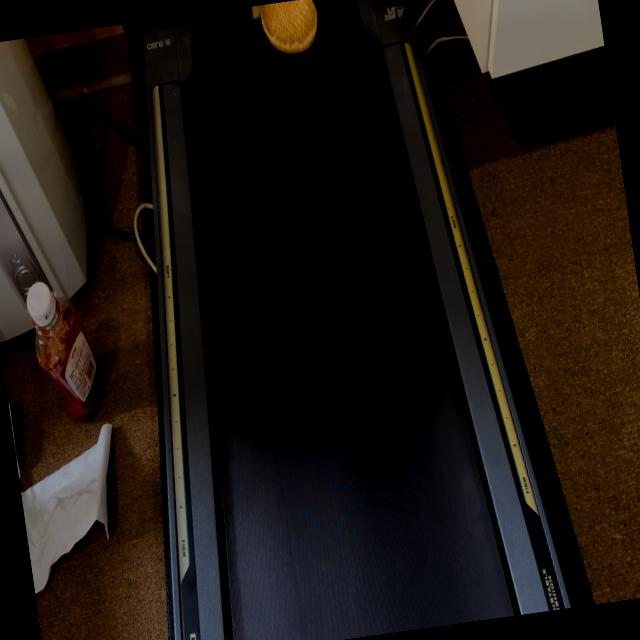Trash: (249, 0, 323, 60)
